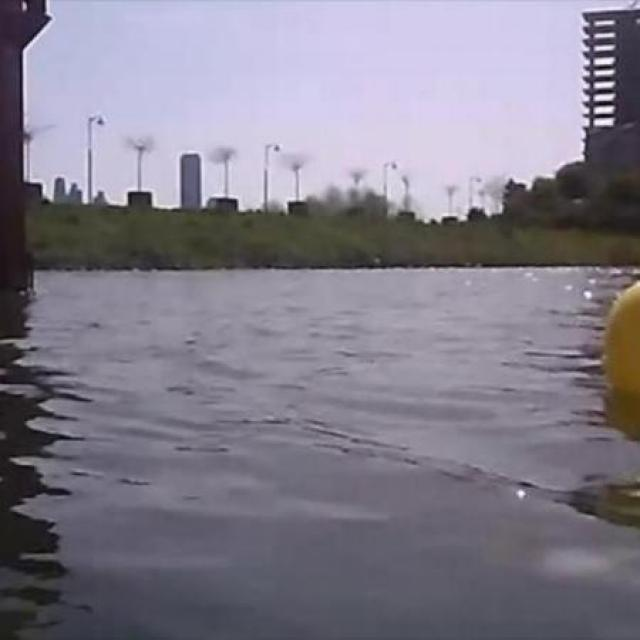buoy: (600, 272, 640, 414)
